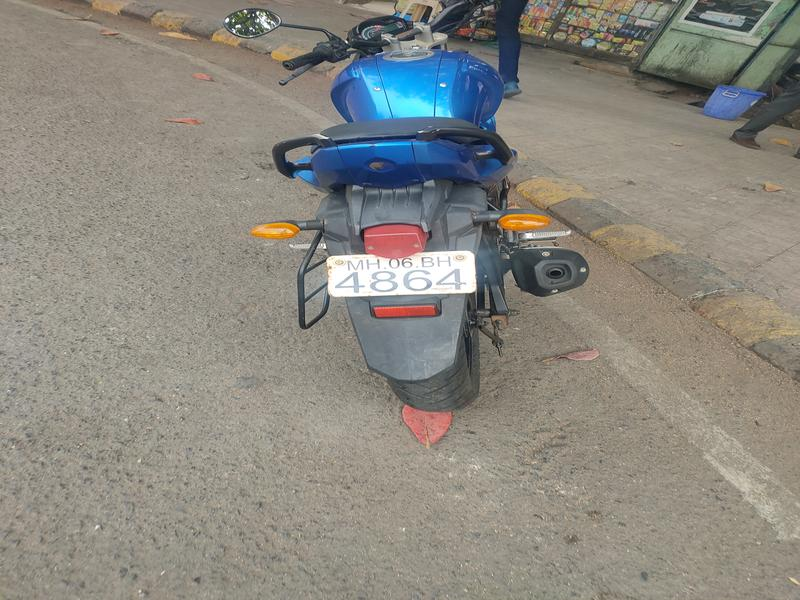license_plate: (319, 246, 486, 311)
